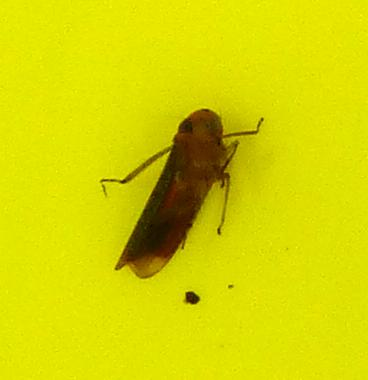Hemiptera: (100, 100, 268, 280)
